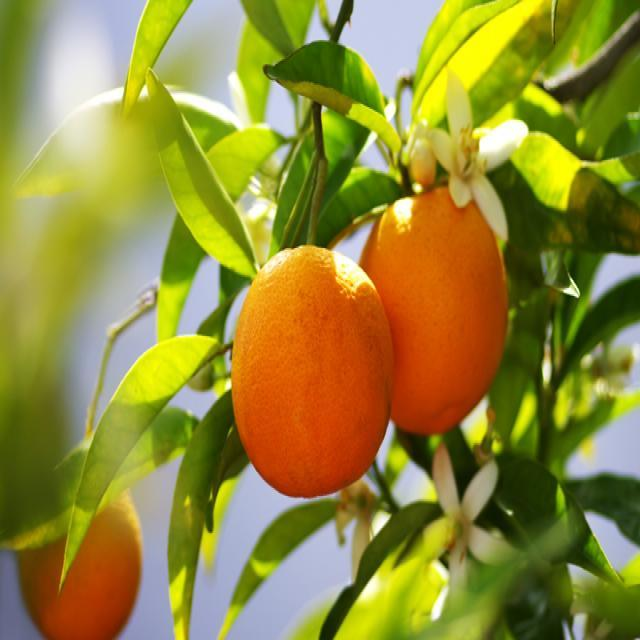Jeruk Sudah Matang: (226, 242, 397, 500), (362, 182, 512, 442), (11, 476, 158, 640)
